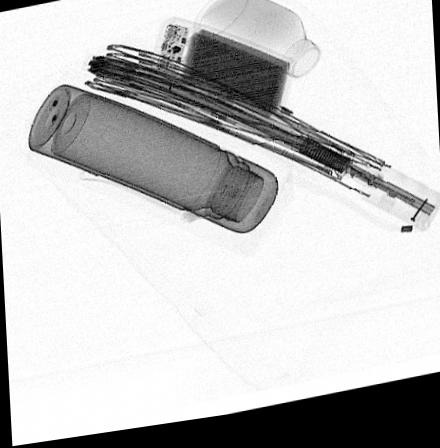Powerbank: (151, 21, 295, 130)
